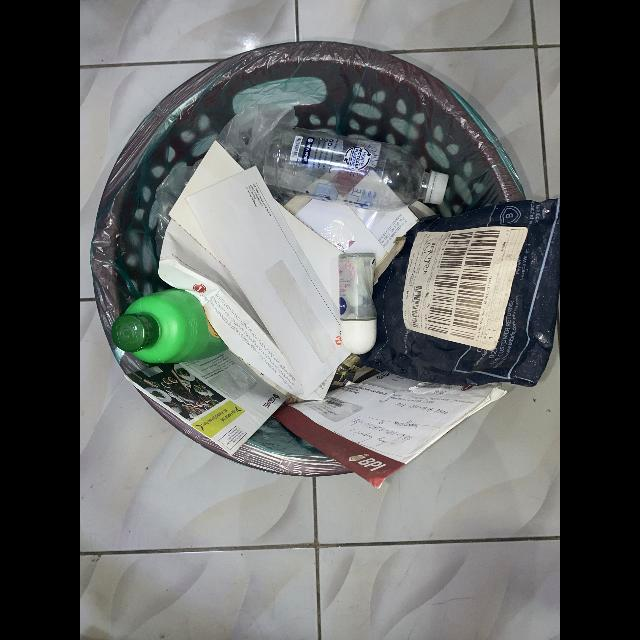glass_bottle: (338, 253, 377, 355)
paper: (185, 165, 351, 399), (158, 218, 338, 400), (273, 372, 508, 489), (127, 350, 287, 456), (295, 199, 387, 265)
plastic_bag: (358, 198, 560, 388)
plastic_bottle: (262, 127, 448, 212), (111, 288, 229, 364)
